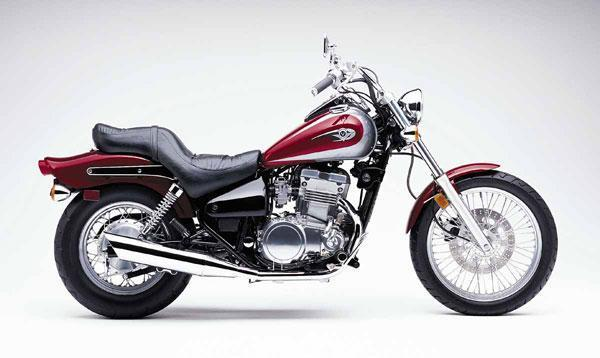motorcycle: (29, 26, 583, 335)
